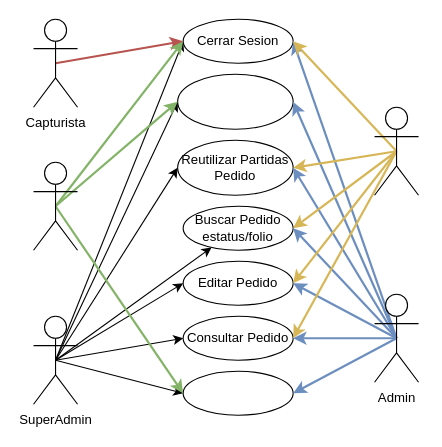
This 442x447 diagram has some shape labels left out. Here are the shapes that lost their labels. From the top down, the centre of each, then its label:
the point at 235,101: Reutilizar Partidas Cotizacion
the point at 396,150: Compras
the point at 55,205: Ventas
the point at 237,392: Consultar Reporte
